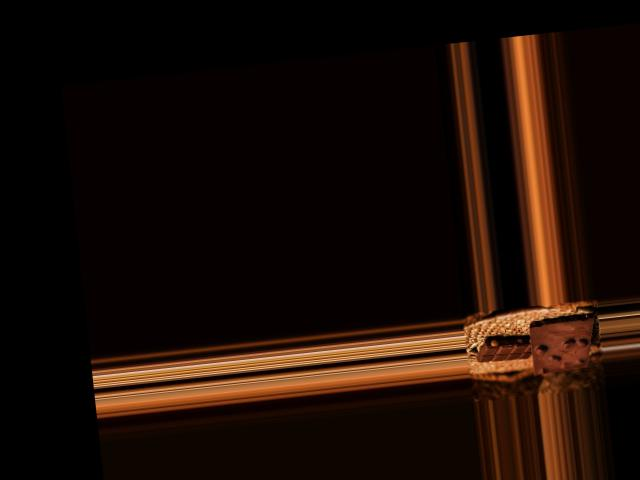chocolate: (524, 313, 600, 377)
